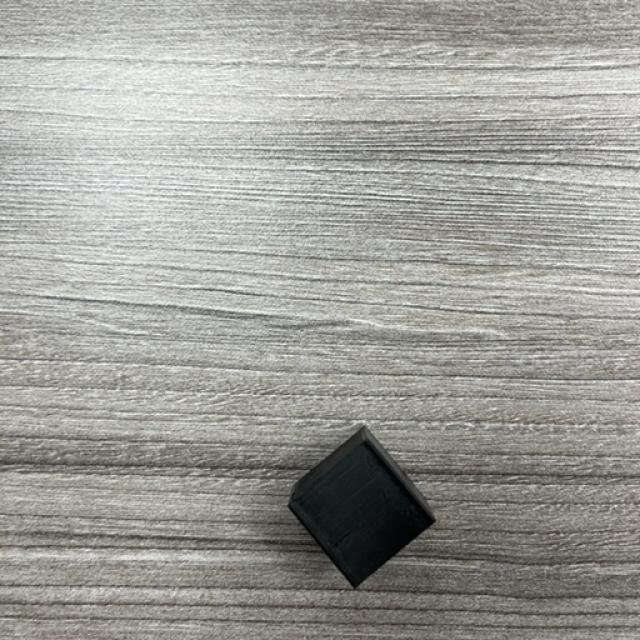Negro: (288, 426, 438, 590)
